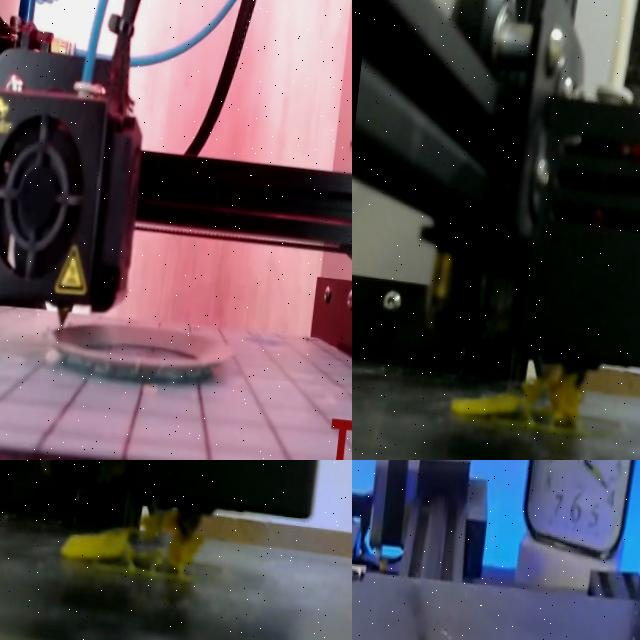spaghetti: (60, 509, 203, 576), (450, 365, 583, 431)
